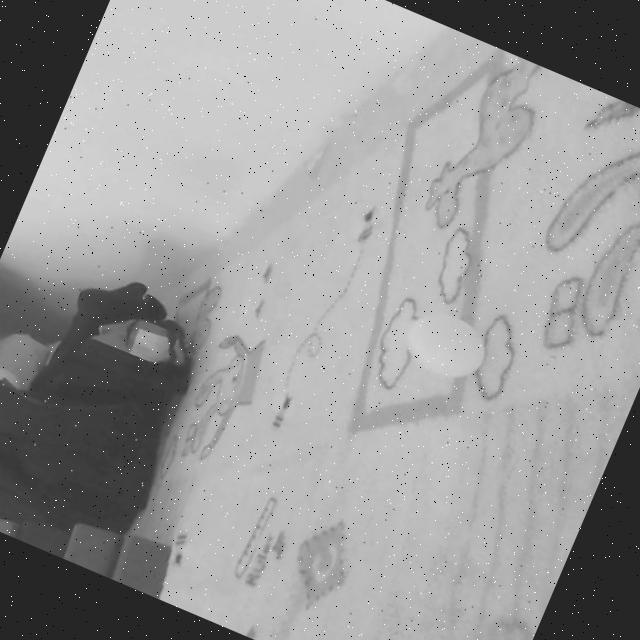ping-pong-ball: (400, 305, 492, 388)
